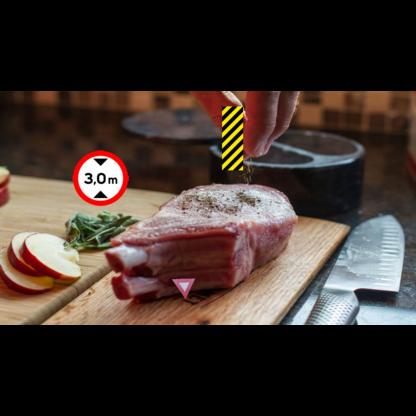O-MP: (222, 106, 243, 170)
R-15: (73, 150, 128, 206)
